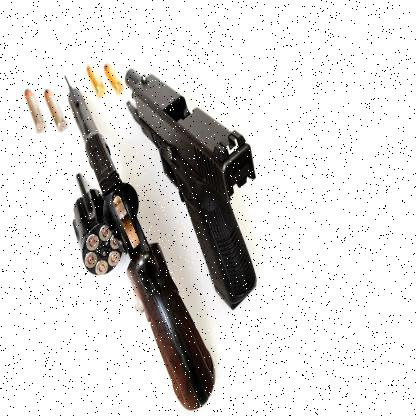pistol: (62, 74, 215, 411), (124, 67, 258, 310)
